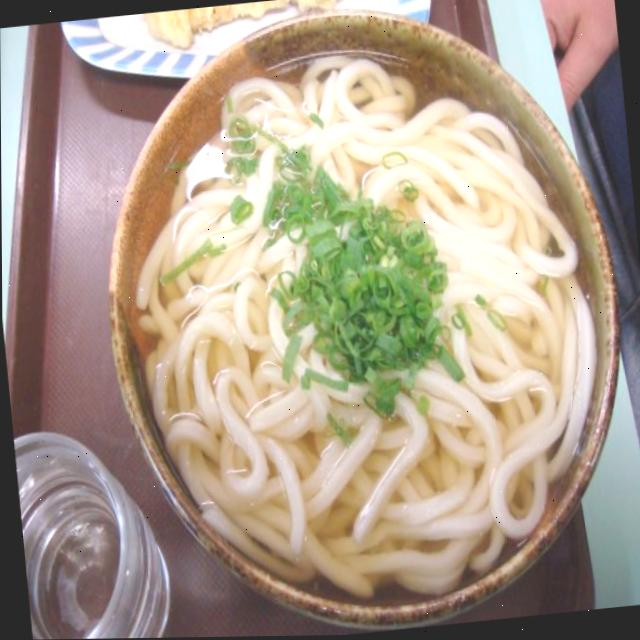面条主食: (87, 0, 640, 639)
